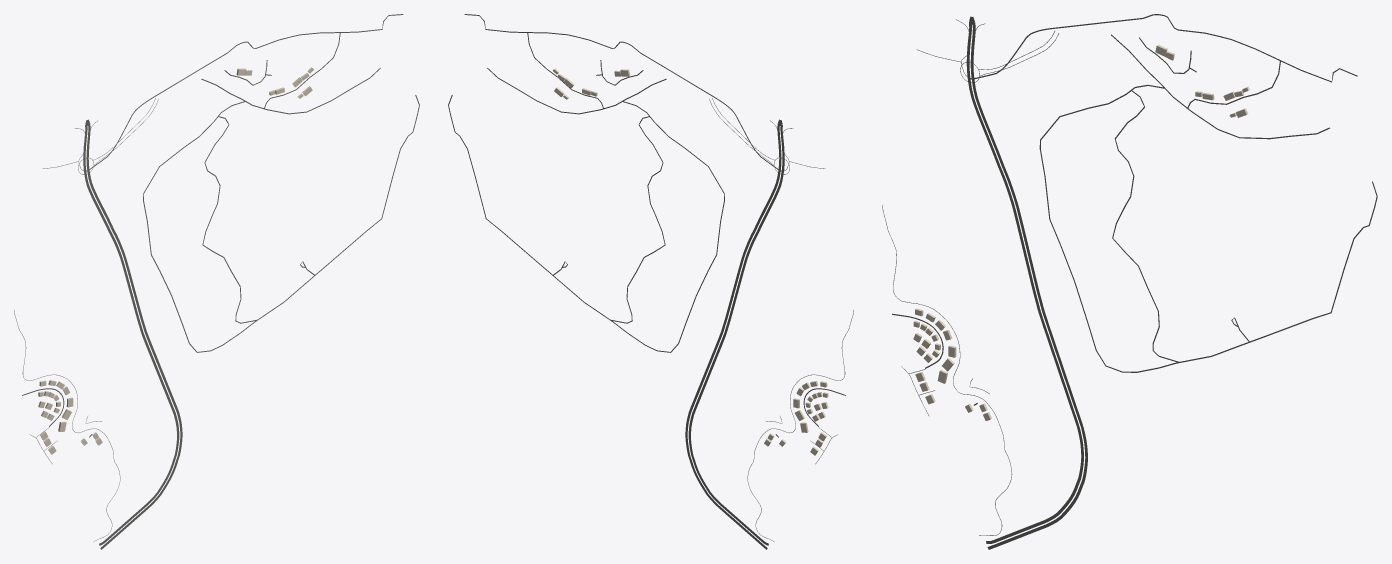
File: historic-palestine-11_23_3531_3179.glb
3 renders of one model, left to right at view 1: azimuth 30°, elevation 25°; view 2: azimuth 150°, elevation 25°; view 3: azimuth 330°, elevation 25°, orthographic. The views are drawn at different scales.
Parts seen in each view (by area): view 1: Road 4176.003, Road 4176.001, Road .015, Road .002; view 2: Road 4176.003, Road 4176.001, Road .015, Road .002; view 3: Road 4176.003, Road 4176.001, Road .015, Road .002.
Boxes of the visible parts, left/top/right/bottom form: Road 4176.003: left=86, top=123, right=182, bottom=549; Road 4176.001: left=83, top=125, right=179, bottom=545; Road .015: left=143, top=95, right=419, bottom=352; Road .002: left=85, top=14, right=403, bottom=171; Road 4176.003: left=685, top=123, right=781, bottom=549; Road 4176.001: left=688, top=125, right=784, bottom=545; Road .015: left=448, top=95, right=724, bottom=352; Road .002: left=464, top=14, right=782, bottom=171; Road 4176.003: left=970, top=22, right=1087, bottom=549; Road 4176.001: left=966, top=22, right=1083, bottom=543; Road .015: left=1039, top=86, right=1377, bottom=372; Road .002: left=970, top=14, right=1357, bottom=82.
Bounding box in the file's own units: 1412 × 1573 × 8.7.
